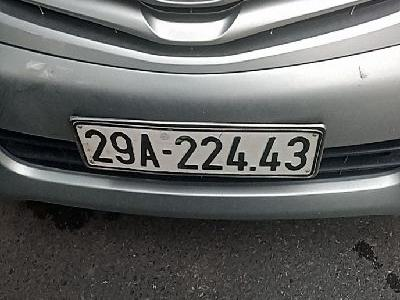number: (69, 115, 326, 184)
